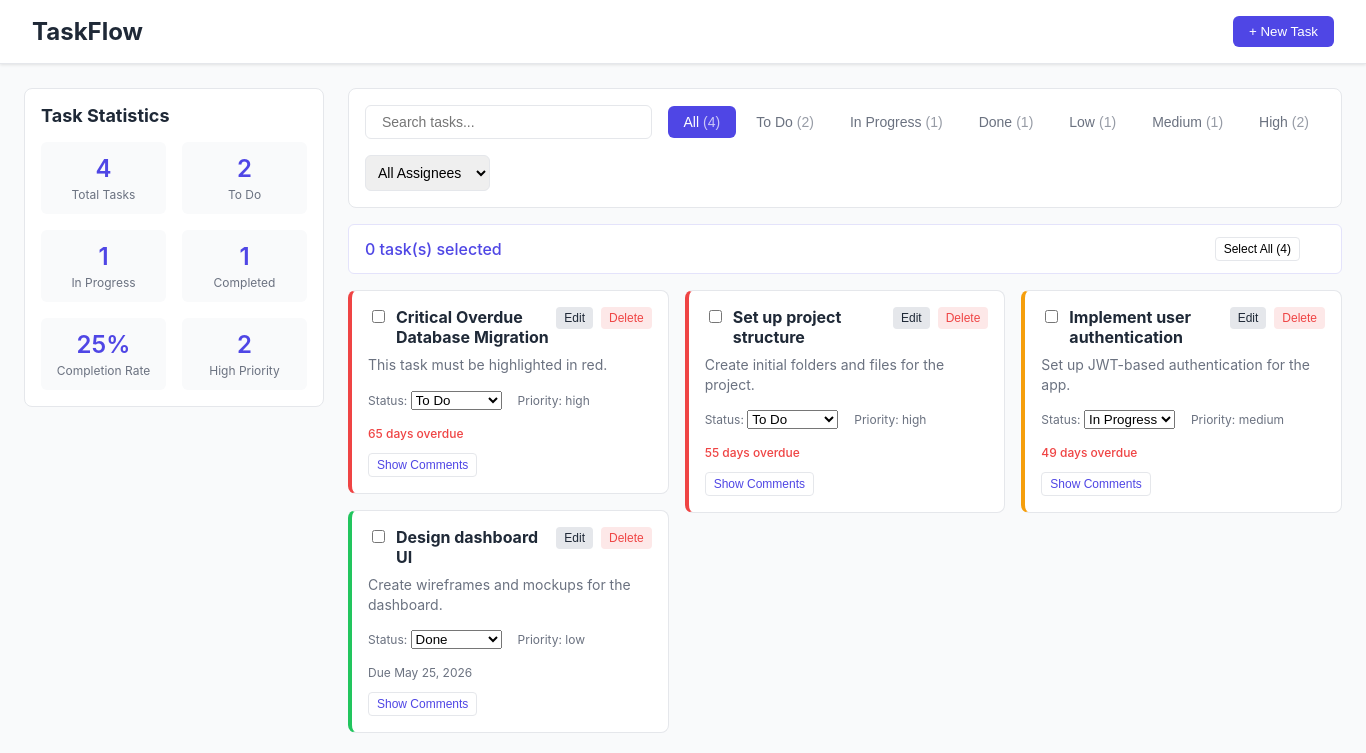
TaskFlow Application › Task Comments (FEATURE) › should add a new comment to a task
Click the button with test id "comments-toggle" below "65 days overdue". click: (423, 465)
box: top-left (368, 453), bottom-right (477, 477)
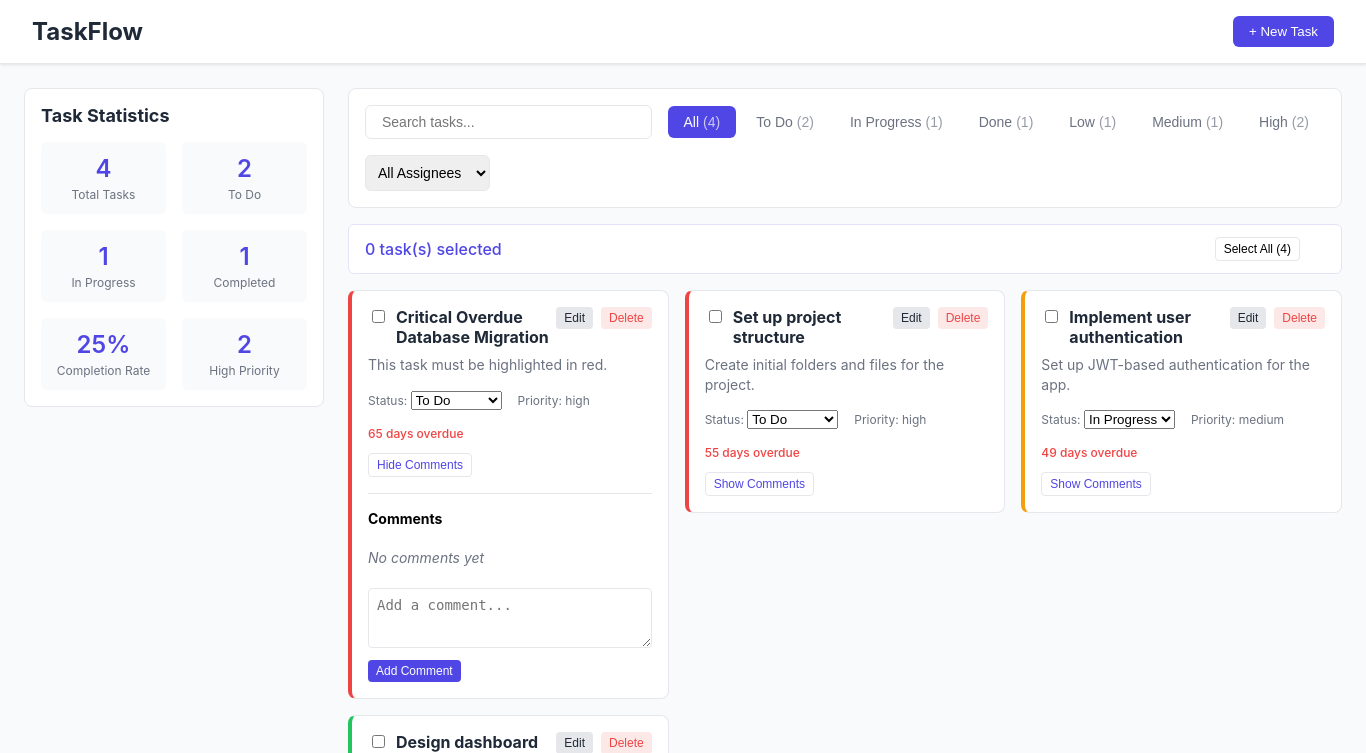
Now the element with test id "task-comments" is shown, box top-left (368, 493), bottom-right (652, 682)
Type "Great work!" into the text box with test id "comment-input". click: (510, 618)
box: top-left (368, 588), bottom-right (652, 648)
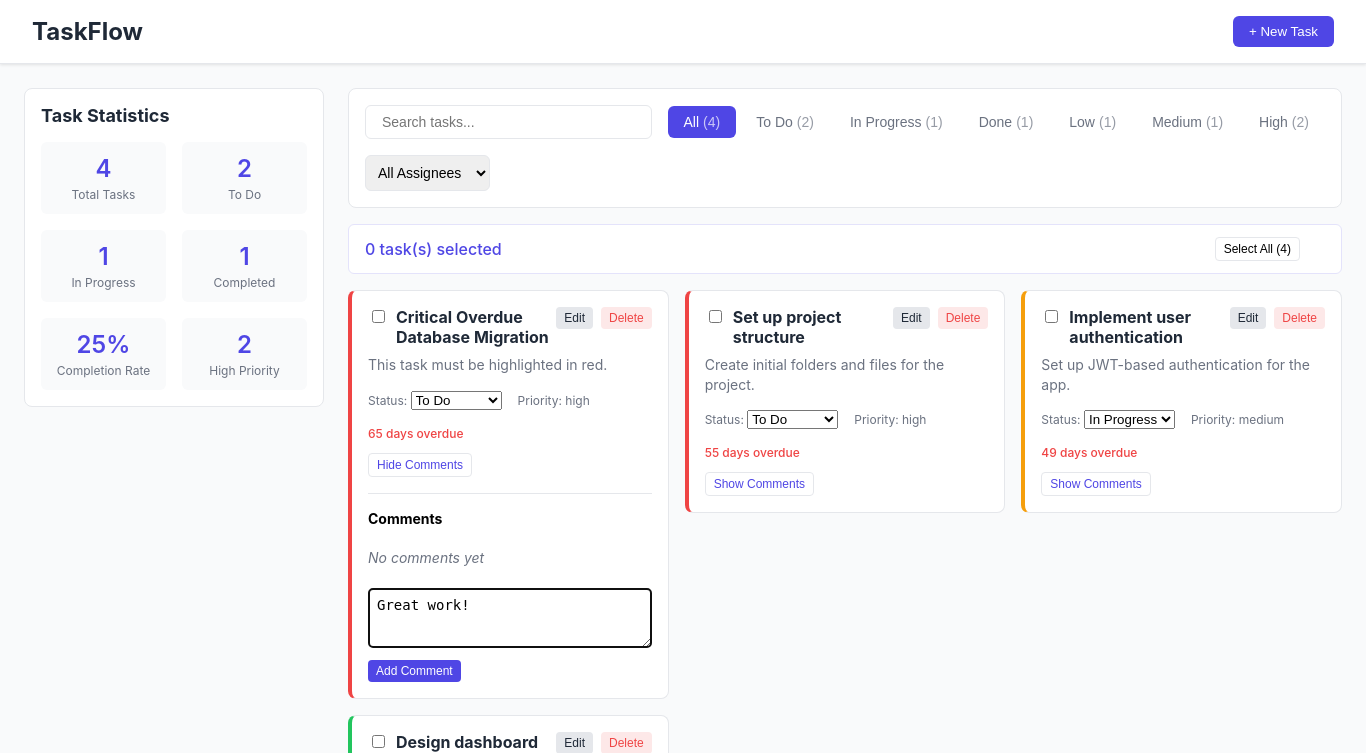
Click the button with test id "add-comment-button". click: (415, 671)
box: top-left (368, 660), bottom-right (461, 682)
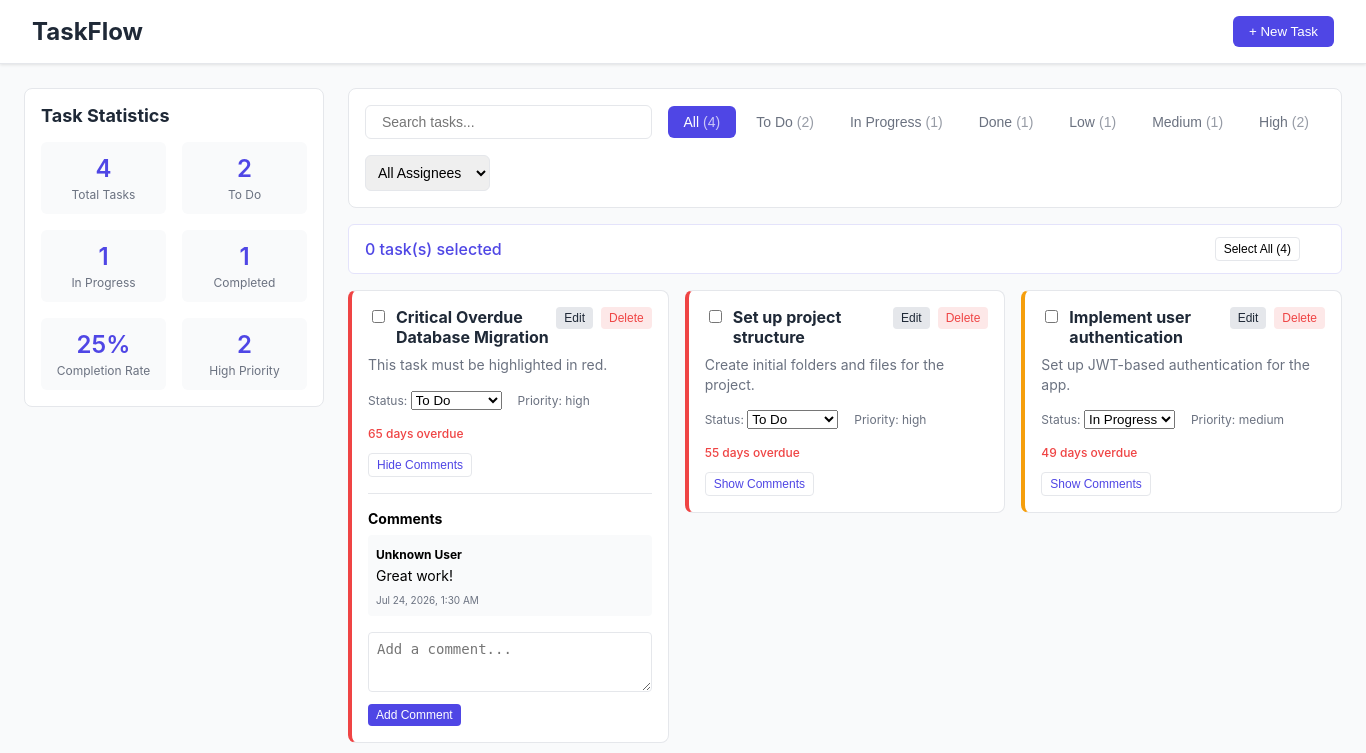
Now the text "Great work!" is shown, box top-left (376, 567), bottom-right (453, 584)
